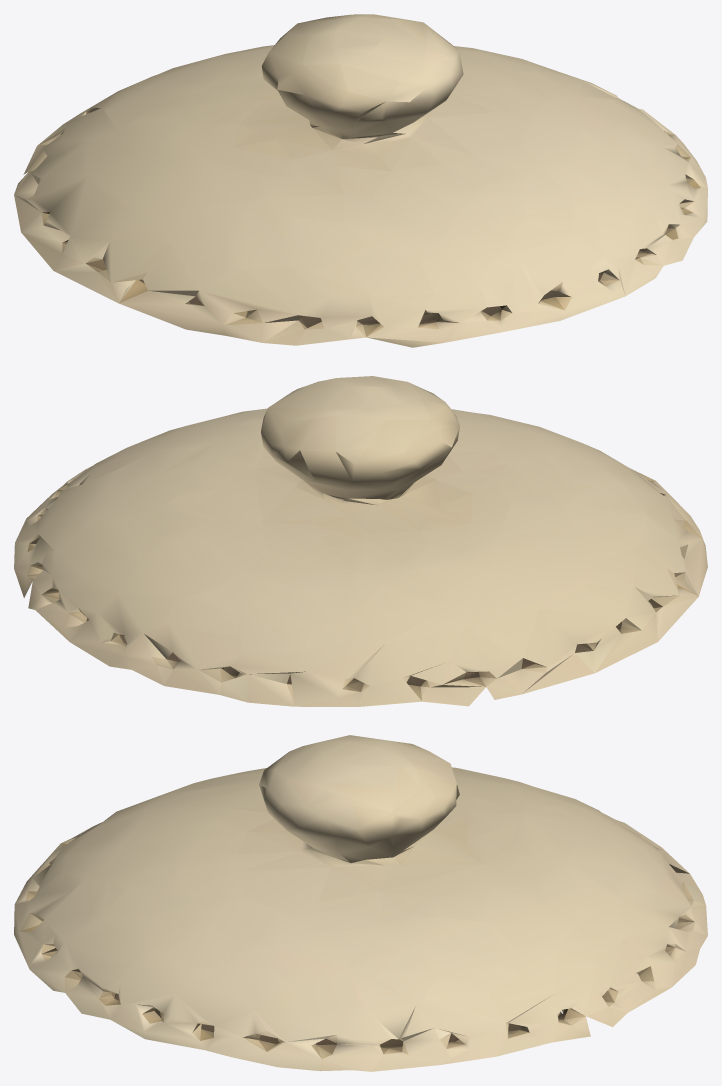
File: kiln_lid.glb
3 renders of one model, top to bottom at view 1: azimuth 30°, elevation 25°; view 2: azimuth 150°, elevation 25°; view 3: azimuth 270°, elevation 25°, orthographic.
Parts seen in each view (by area): view 1: geometry_0; view 2: geometry_0; view 3: geometry_0.
Boxes of the visible parts, x1=… form: geometry_0: x1=14, y1=14, x2=707, y2=347; geometry_0: x1=14, y1=376, x2=707, y2=706; geometry_0: x1=14, y1=735, x2=707, y2=1071.
Size of the model in its own units: 0.3318 by 0.09 by 0.3284.
1 material, 1 textured.
